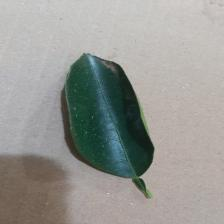healthy: (43, 73, 221, 210)
